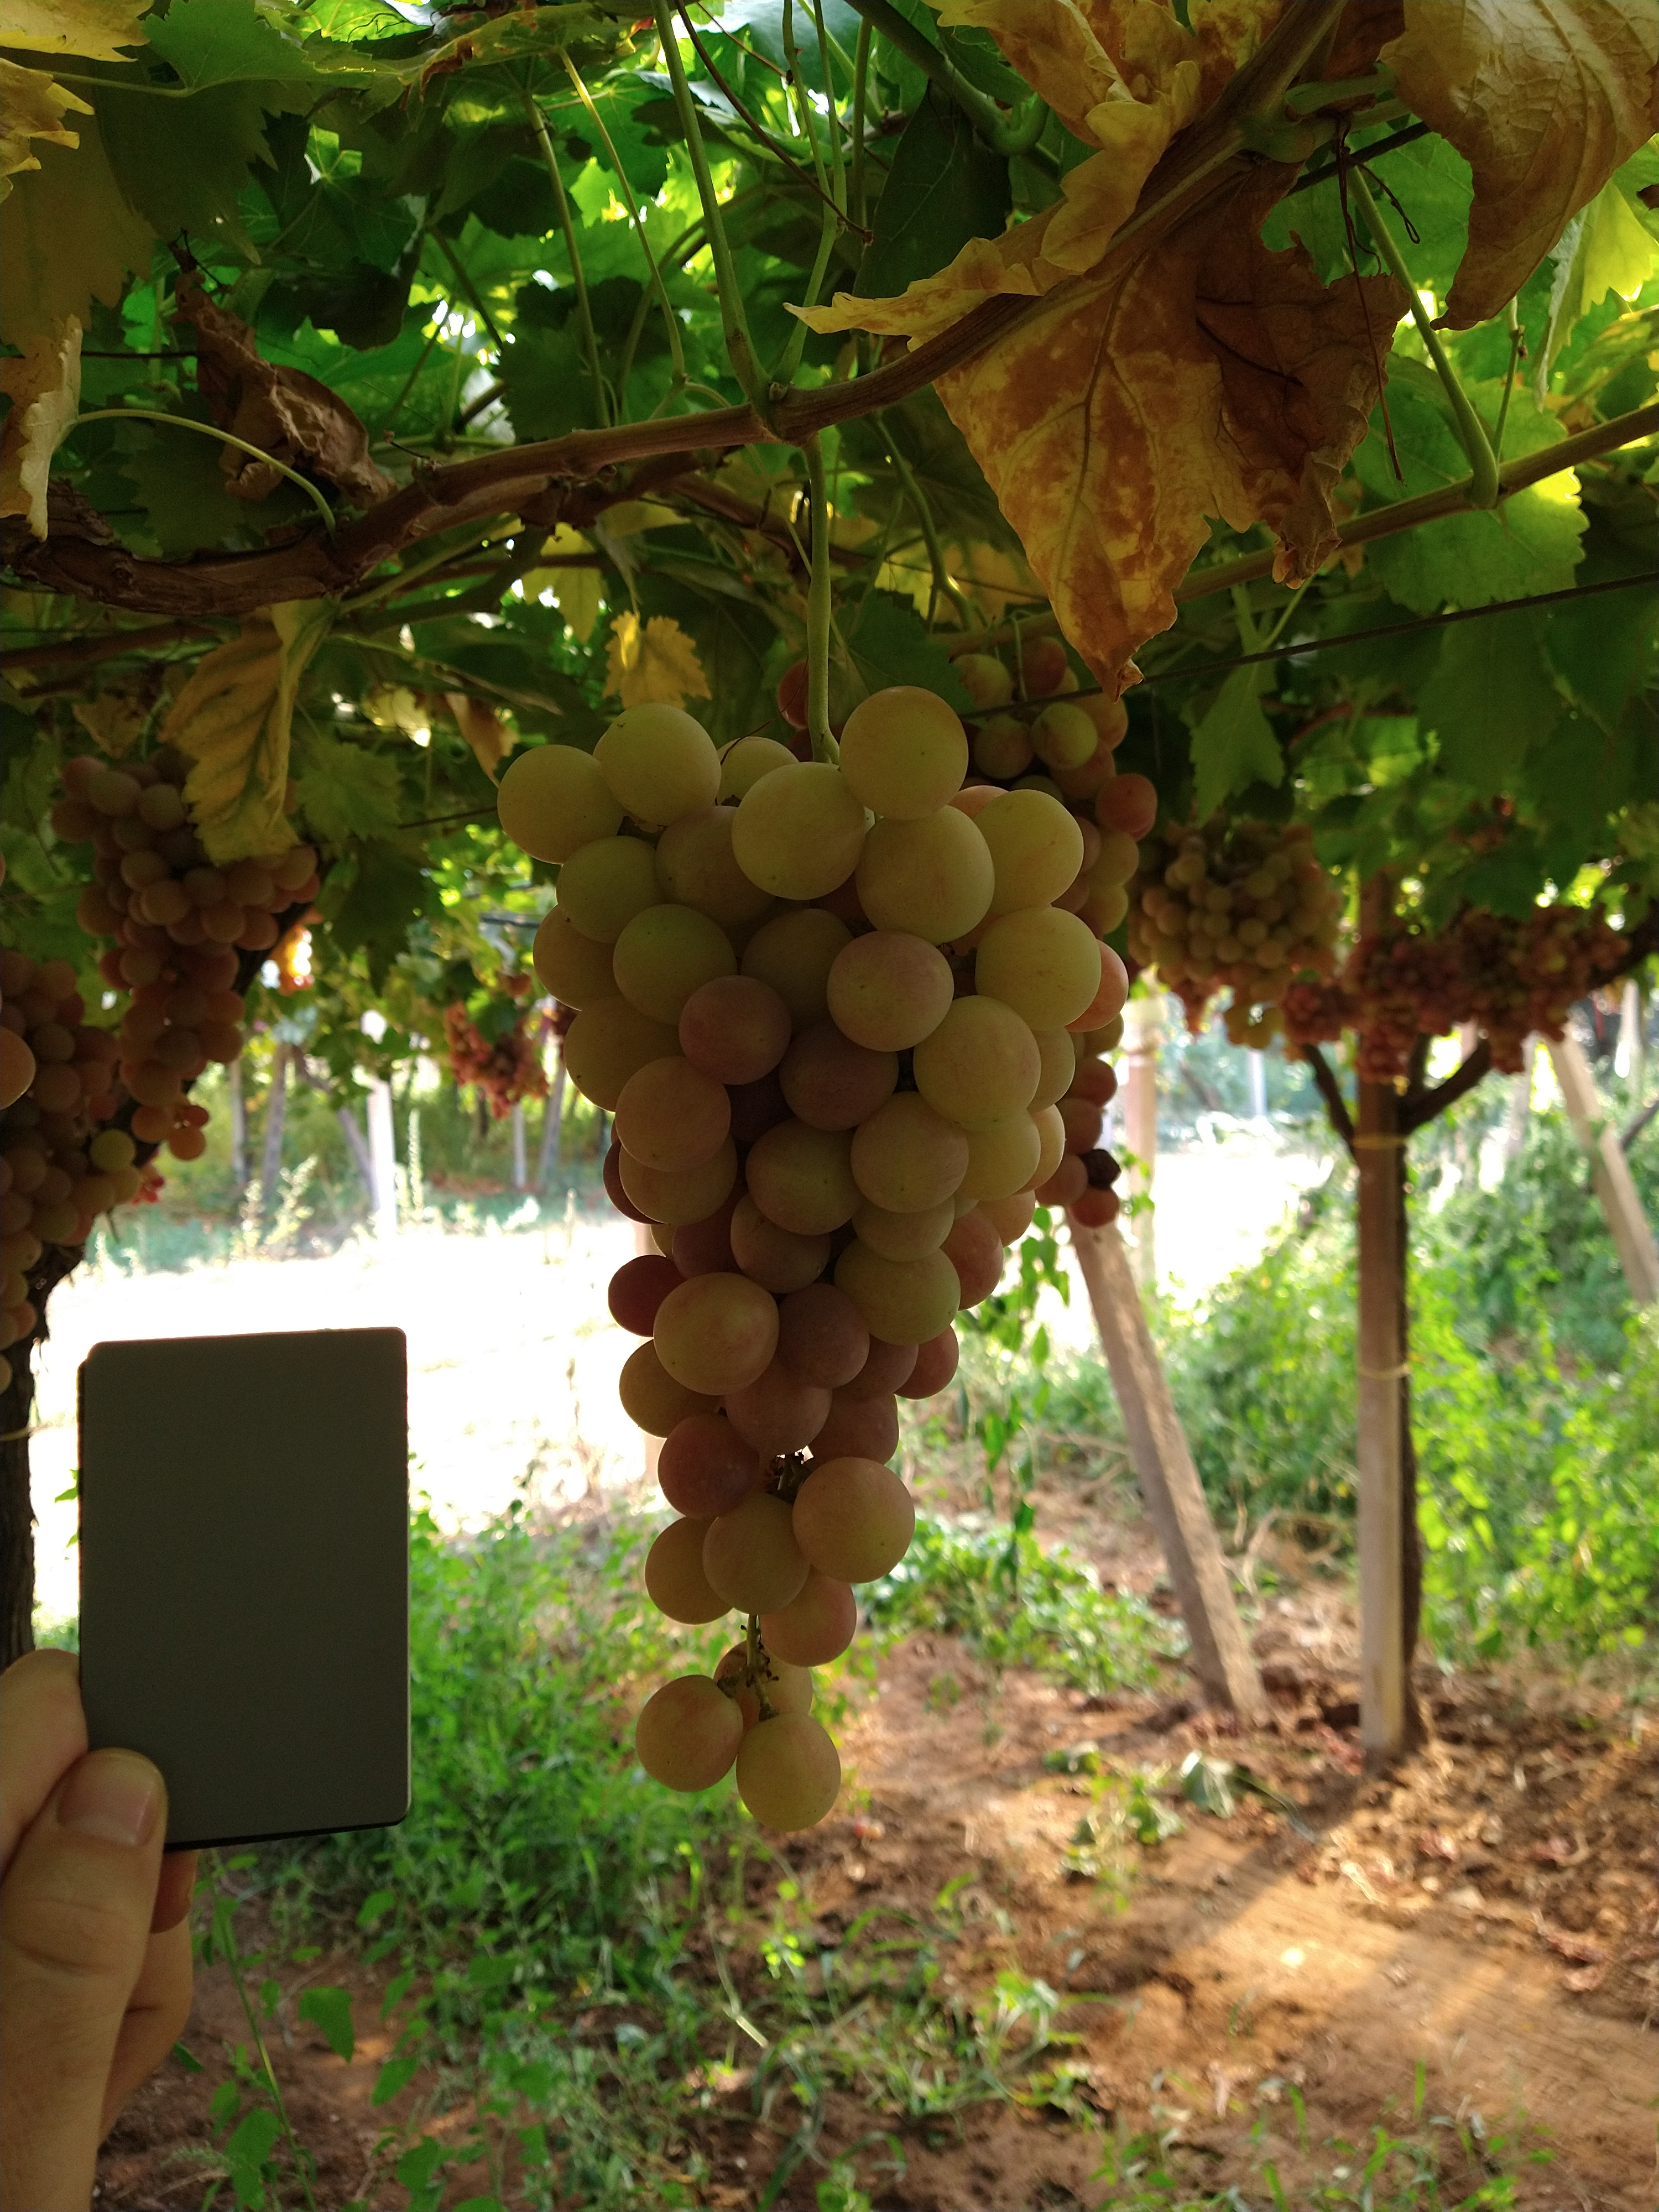acino: (835, 686, 979, 820), (734, 763, 866, 904), (910, 991, 1042, 1130), (857, 812, 995, 944), (648, 1268, 782, 1400), (972, 907, 1103, 1035), (828, 925, 957, 1052), (791, 1453, 915, 1581), (598, 704, 720, 827), (850, 1094, 974, 1209), (615, 1055, 734, 1174), (498, 742, 613, 864), (702, 1489, 816, 1613), (678, 974, 793, 1089), (748, 1120, 861, 1235), (735, 1712, 842, 1832), (613, 906, 735, 1010), (835, 1251, 960, 1352), (974, 789, 1084, 904), (784, 1024, 901, 1130), (636, 1674, 741, 1792), (552, 840, 657, 942), (657, 1414, 755, 1521), (770, 1287, 871, 1388), (641, 1515, 725, 1627), (758, 1576, 857, 1663)
